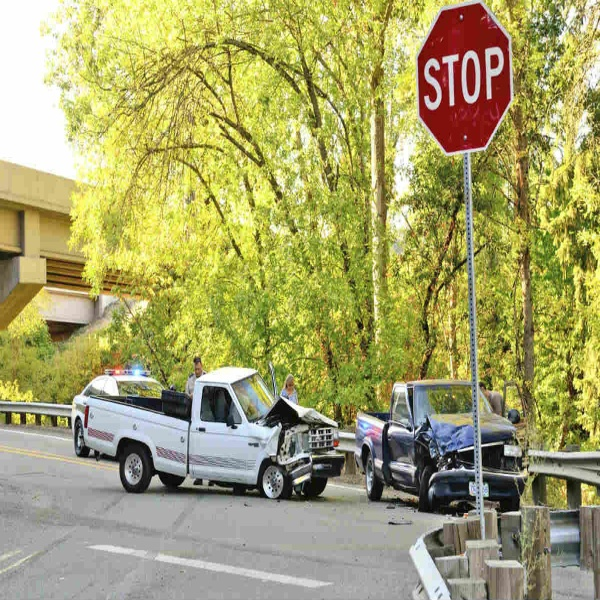stop: (416, 8, 515, 156)
